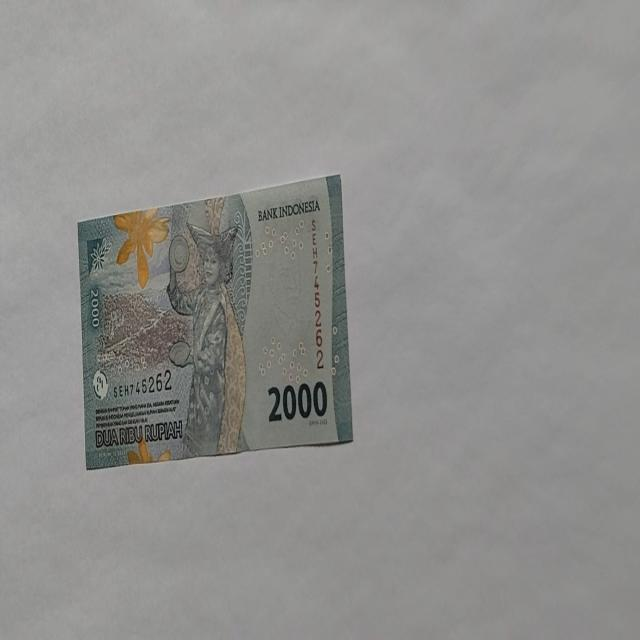dua ribu rupiah: (76, 172, 354, 469), (166, 218, 247, 458)
